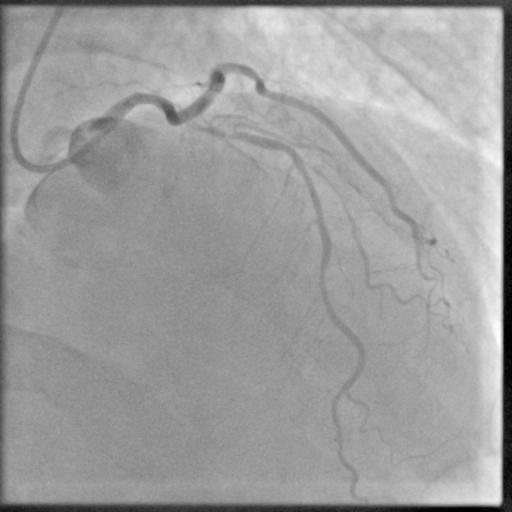Stenosis: (192, 114, 243, 137)
